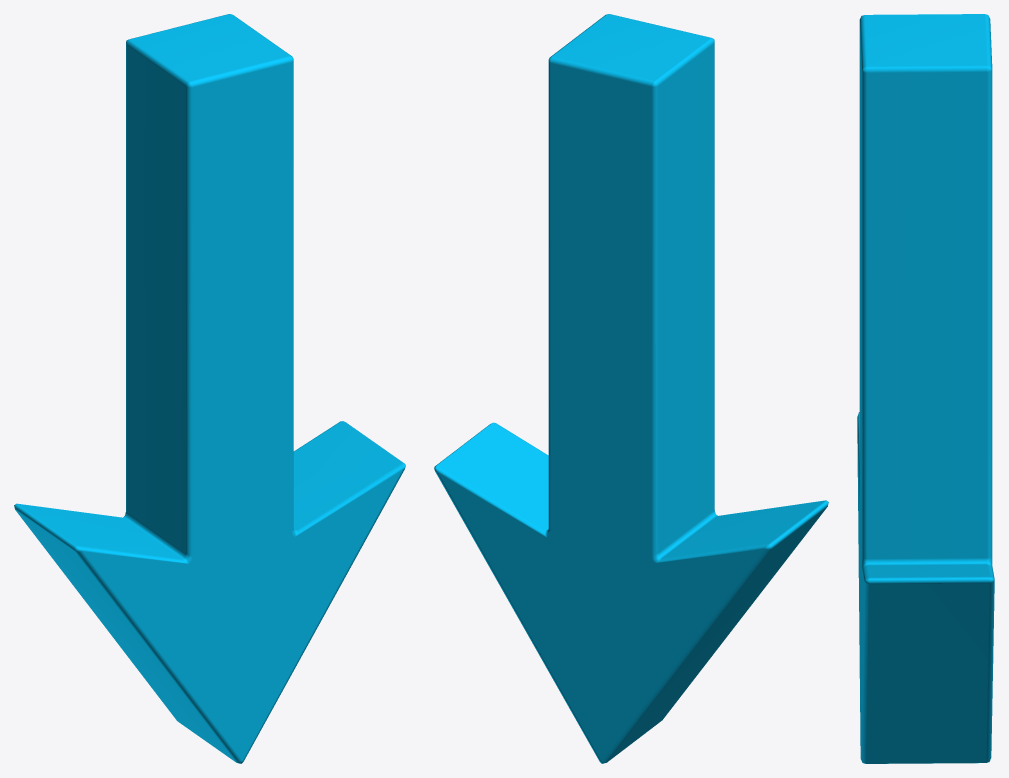
File: animArr.glb
The picture shows the model from 3 angles, left to right: view 1: azimuth 30°, elevation 25°; view 2: azimuth 150°, elevation 25°; view 3: azimuth 270°, elevation 25°; orthographic projection. The views are drawn at different scales.
Visible parts, largest first — view 1: Pointing_Arrow; view 2: Pointing_Arrow; view 3: Pointing_Arrow.
Part boxes in pixels (<box>): Pointing_Arrow: <box>14,14,405,763</box>; Pointing_Arrow: <box>434,14,828,763</box>; Pointing_Arrow: <box>857,14,994,763</box>.
Bounding box in the file's own units: 4.18 × 8.25 × 1.42.
1 material, 1 textured.
